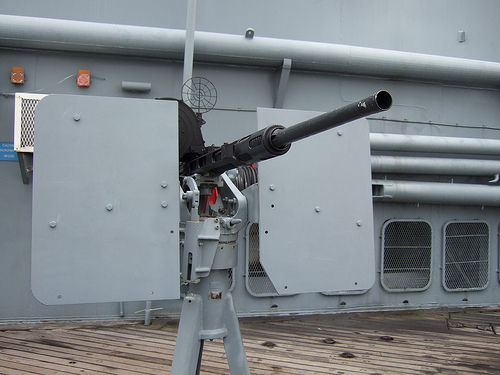rifle: (46, 89, 404, 282)
